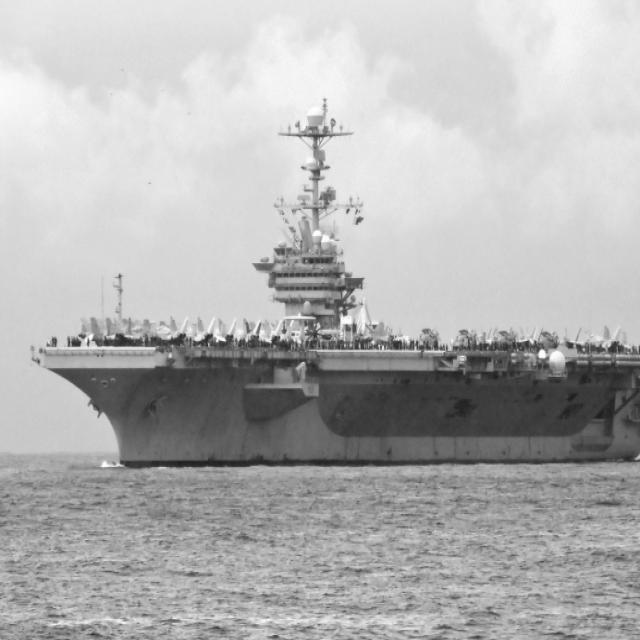Portanaves: (26, 99, 640, 482)
